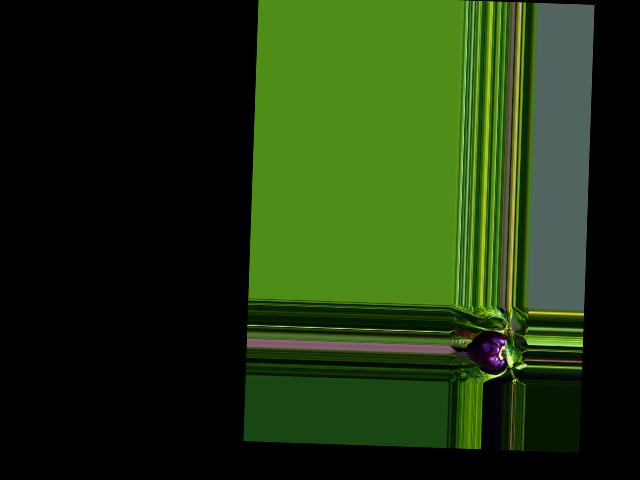bell_pepper: (464, 328, 512, 370)
